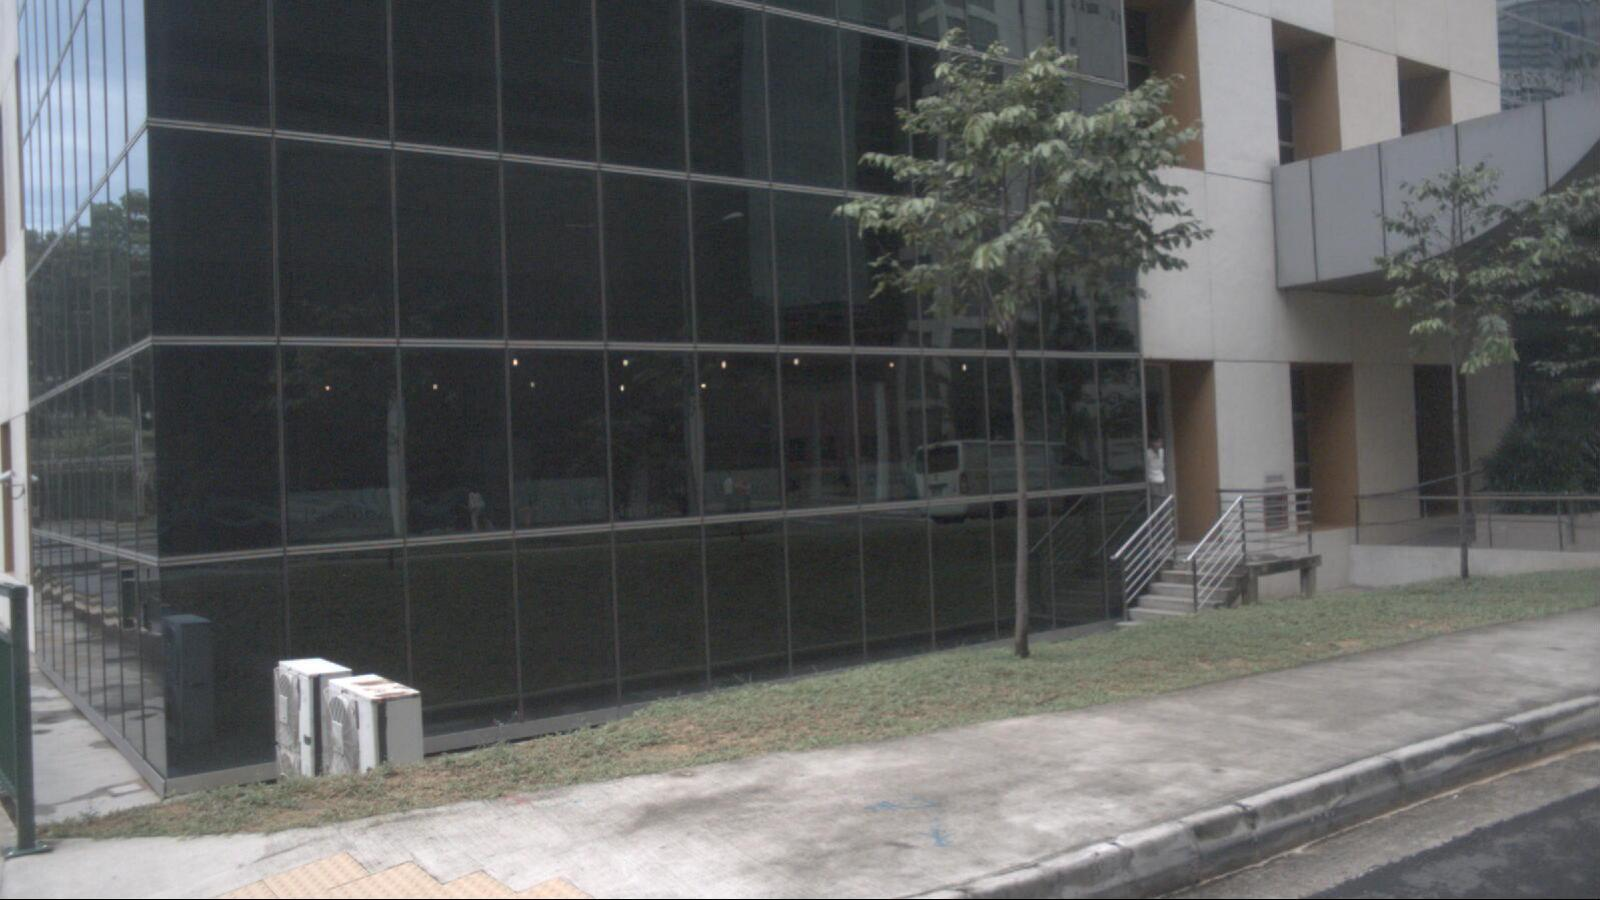human.pedestrian.adult-pedestrian.moving: (464, 483, 497, 539)
human.pedestrian.adult-pedestrian.standing: (1140, 430, 1173, 550), (739, 474, 753, 524), (721, 471, 734, 519)
